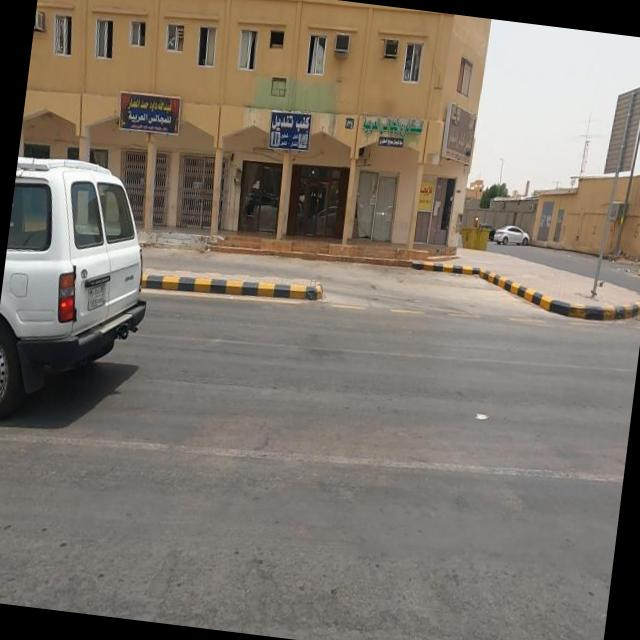debris: (444, 381, 518, 454)
